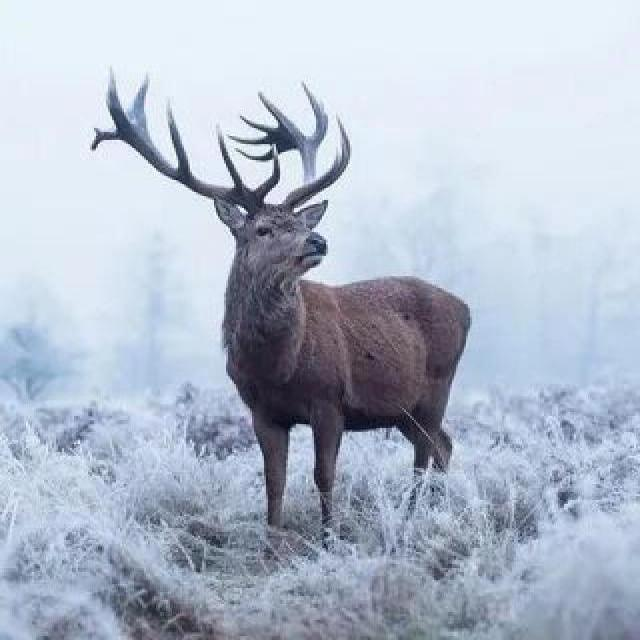deer: (70, 62, 507, 525)
